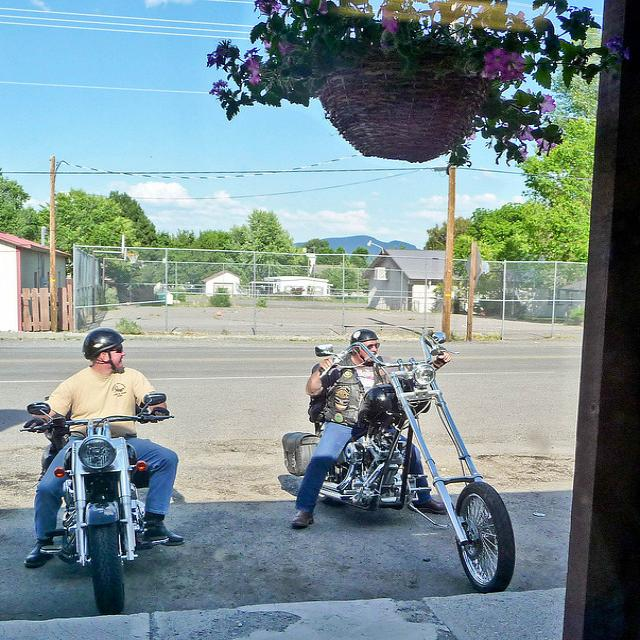motor: (318, 330, 516, 595), (25, 394, 175, 613)
